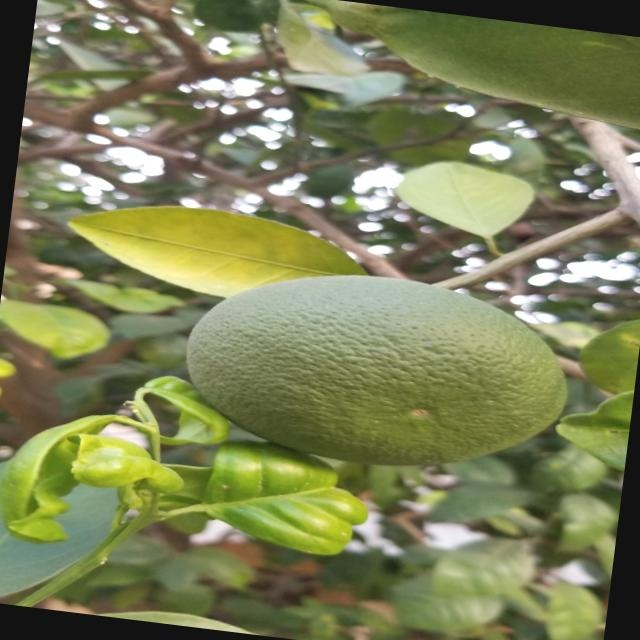agrume: (164, 245, 592, 484)
